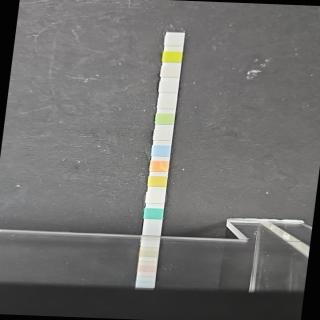mark: (144, 208, 162, 220), (151, 160, 169, 172), (152, 144, 170, 156), (154, 128, 172, 140), (160, 82, 178, 94), (148, 176, 167, 187), (163, 51, 181, 62), (146, 192, 165, 202), (156, 113, 173, 124), (158, 98, 175, 109), (162, 67, 179, 77), (166, 36, 183, 46)
